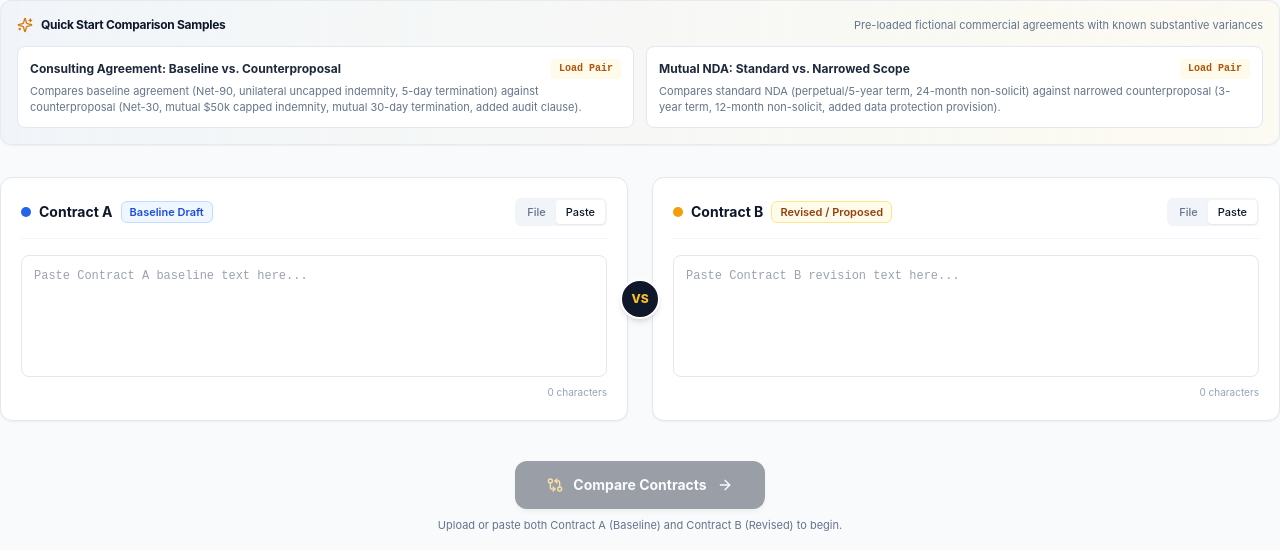
Test: Comparison Workstation Flow Integration › ComparisonInputPanel Flow › allows typing raw text in both contracts to enable comparison
The width and height of the screenshot is (1280, 550).
Type into Contract A
In the text box with placeholder "Paste Contract A baseline text here...": (314, 316) [21,255,607,377], type "Contract A baseline text here."
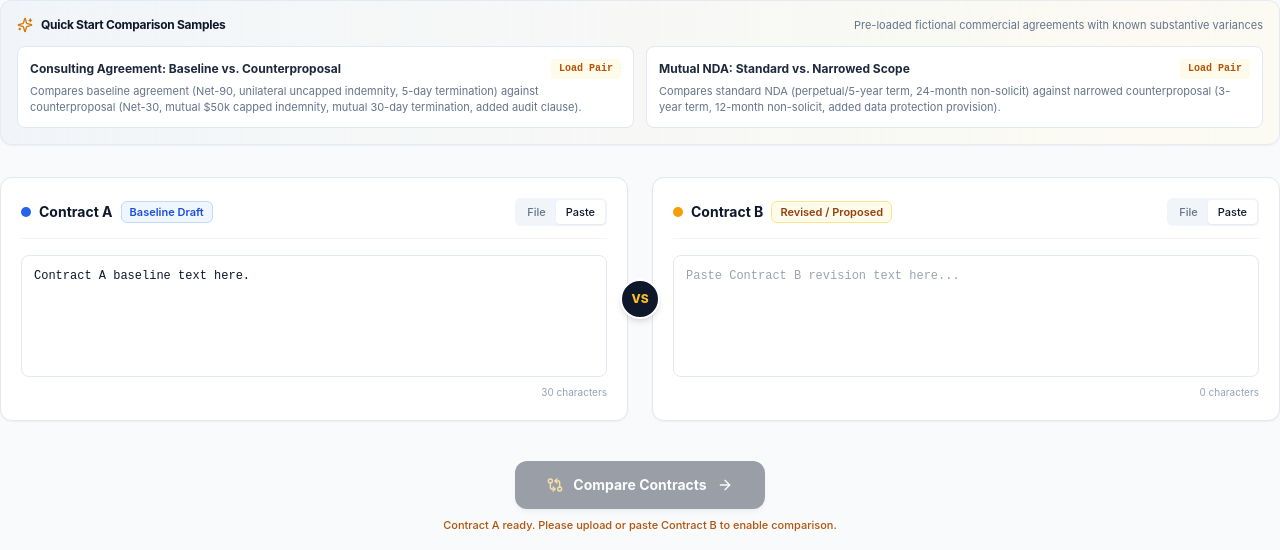
Check: the text "Contract A ready. Please upload or paste Contract B to enable comparison." is shown, box [443,517,837,534]
Type into Contract B
In the text box with placeholder "Paste Contract B revision text here...": (966, 316) [673,255,1259,377], type "Contract B revision text here."
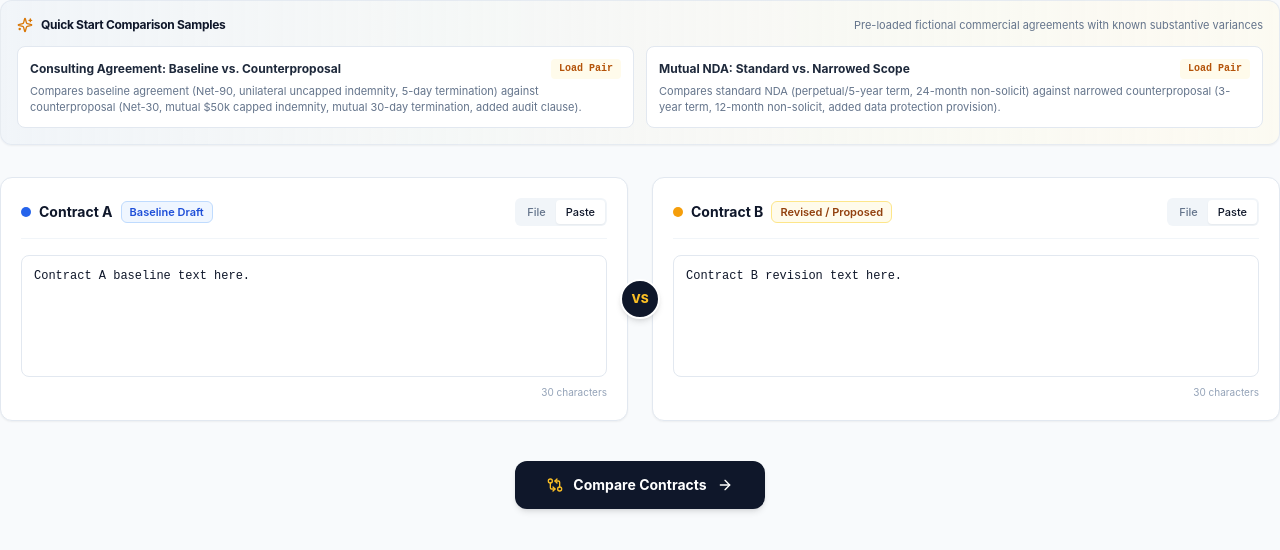
Check: the button "Compare Contracts" is enabled, box [515,461,765,509]
